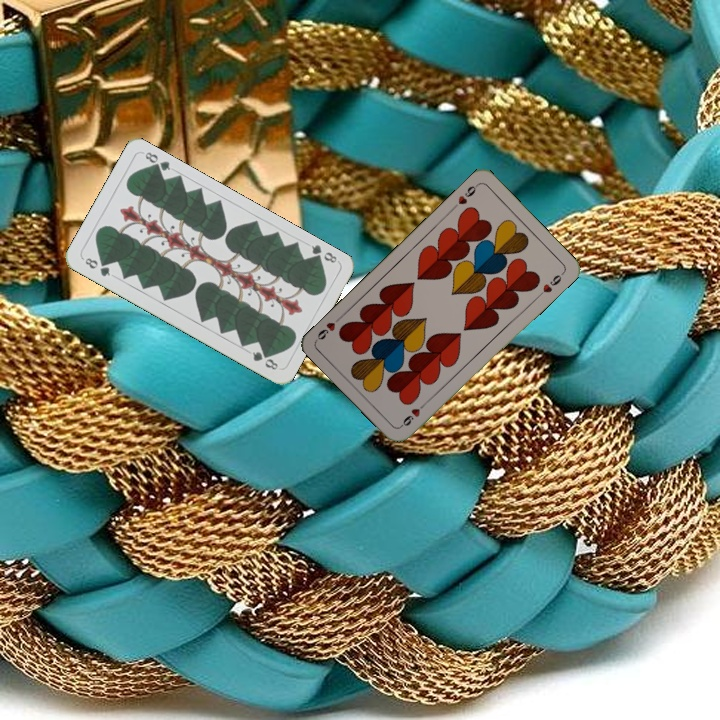G8: (81, 254, 113, 279), (307, 241, 339, 266)
H9: (448, 180, 481, 212), (397, 398, 429, 430)
